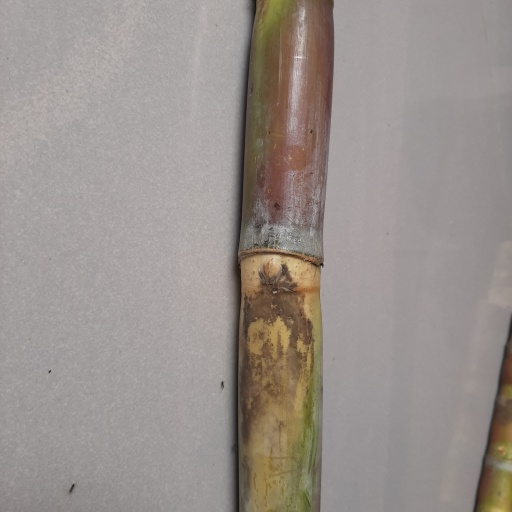Bud: (259, 257, 281, 284)
